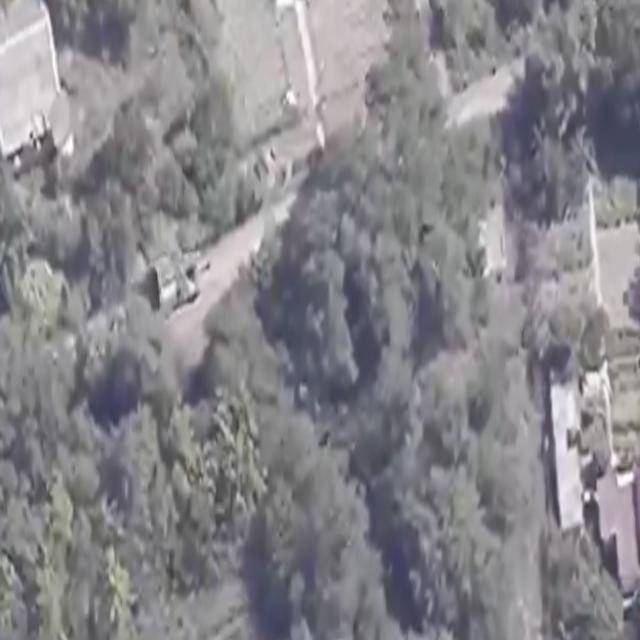vehicle: (150, 252, 211, 310)
